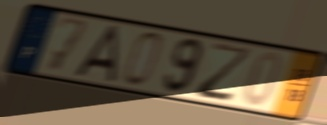0: (120, 30, 167, 90), (240, 50, 286, 109)
7: (47, 14, 90, 76)
9: (162, 37, 204, 96)
A: (72, 24, 122, 85)
Z: (194, 41, 255, 105)
